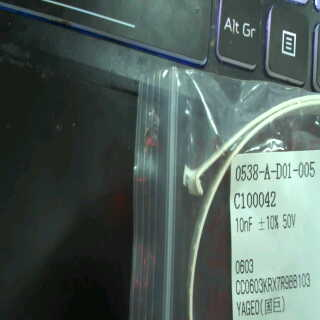10nF: (235, 215, 256, 235)
